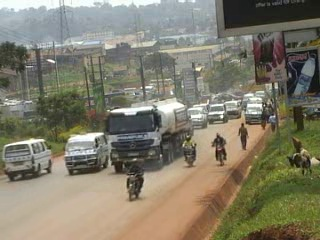Car: (186, 105, 209, 131), (207, 102, 230, 125)
Motorcycle: (121, 157, 145, 202), (210, 131, 230, 166), (180, 135, 198, 167)
